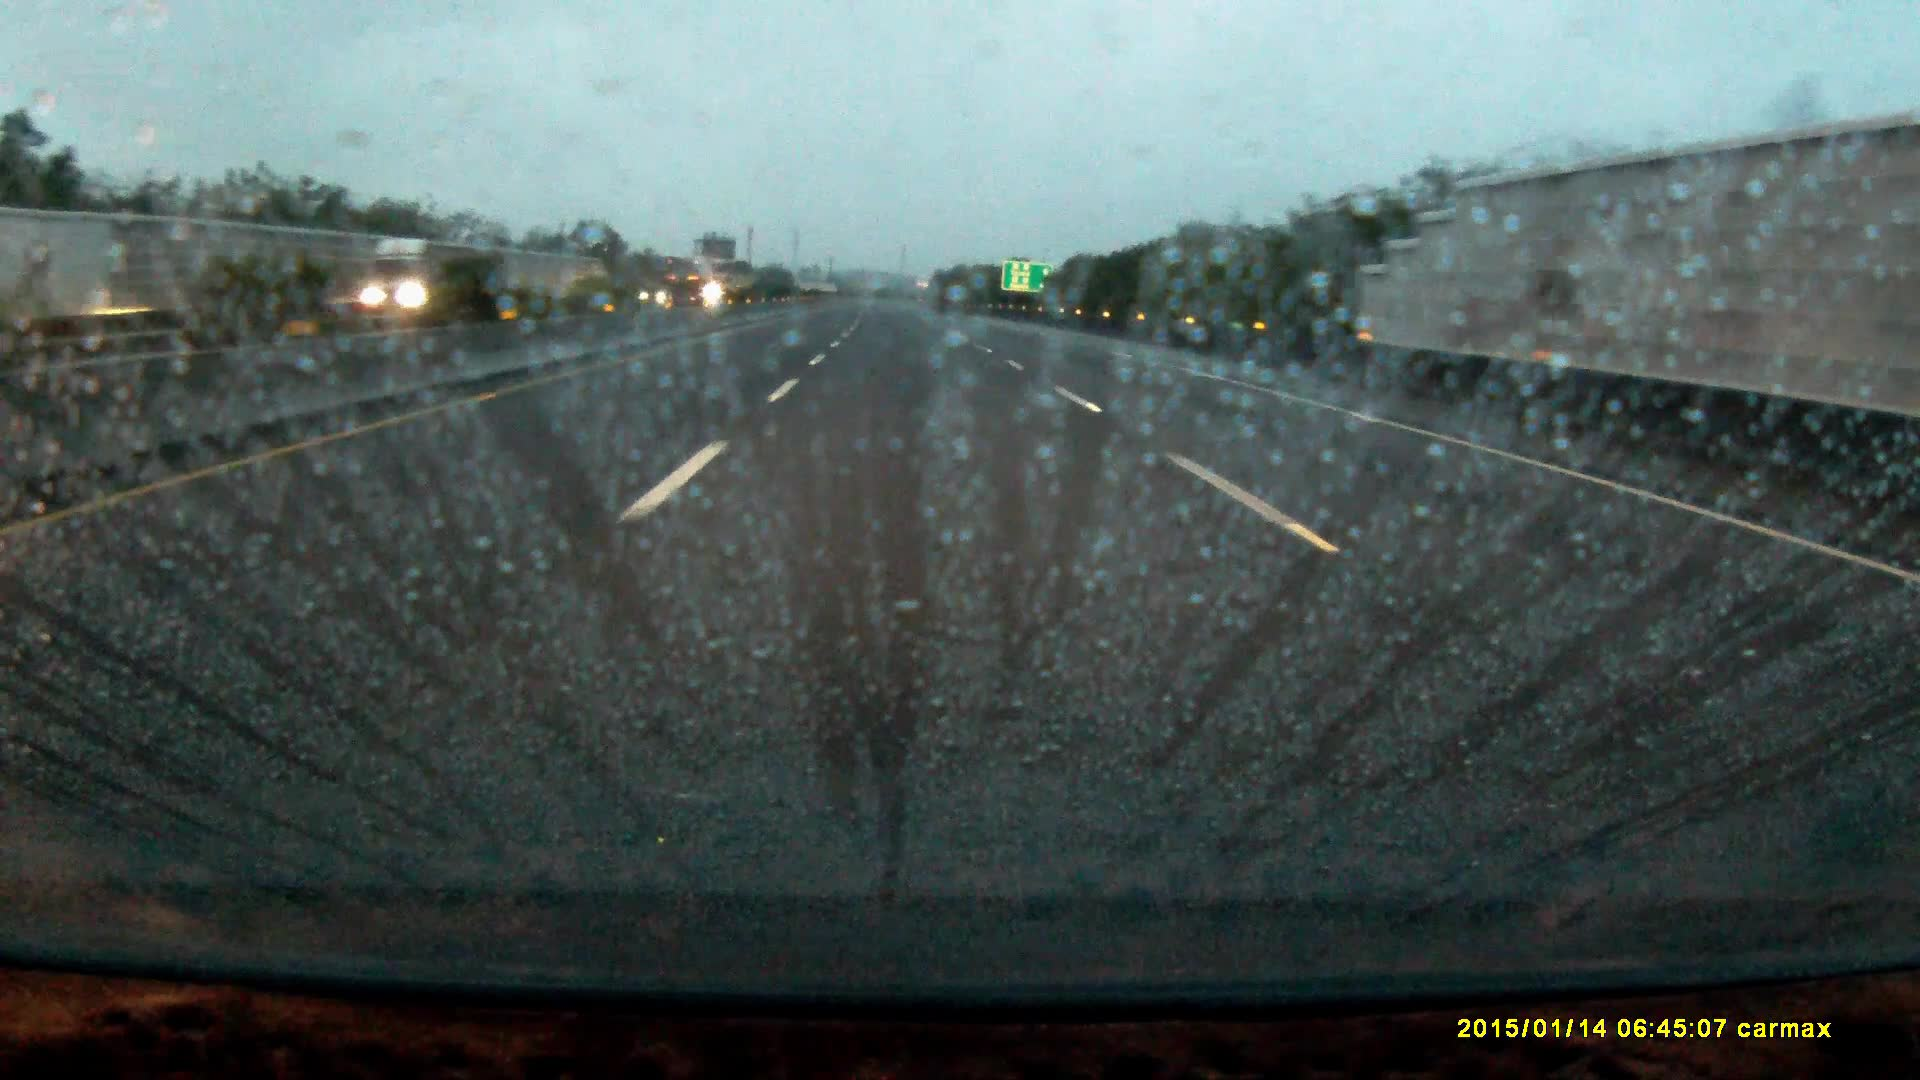vehicle: (359, 237, 476, 338), (665, 266, 717, 313)
